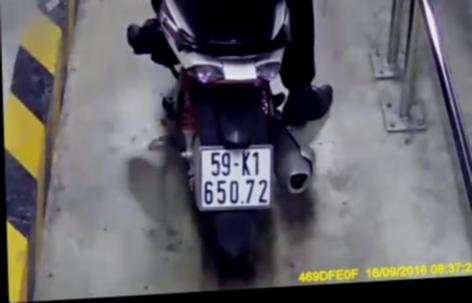License_Plate: (192, 138, 278, 221)
